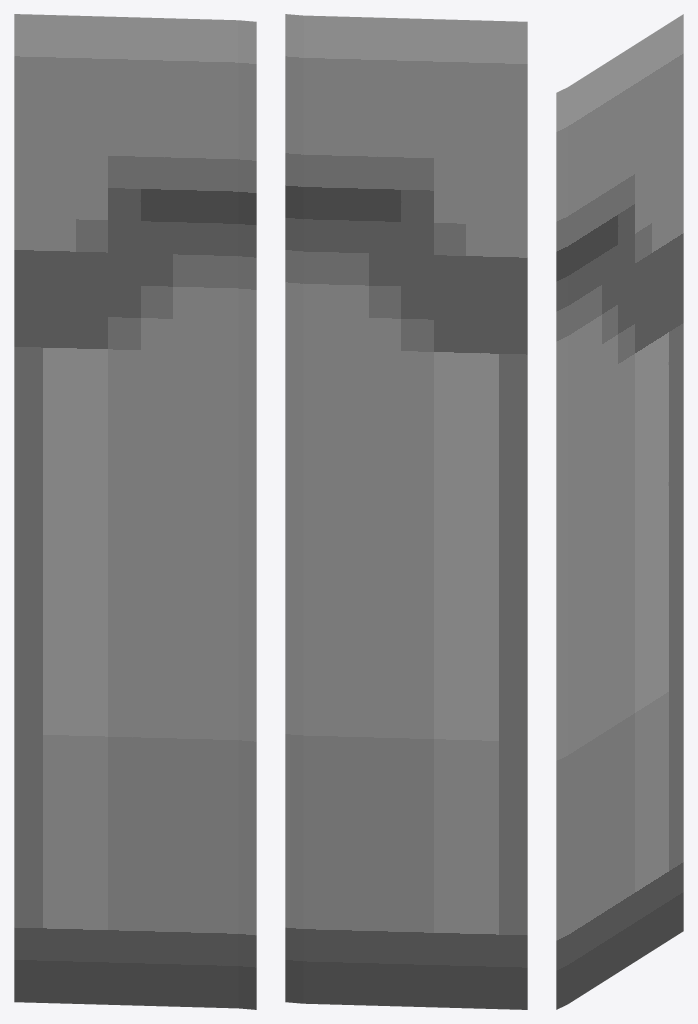
3 renders of one model, left to right at view 1: azimuth 30°, elevation 25°; view 2: azimuth 210°, elevation 25°; view 3: azimuth 270°, elevation 25°, orthographic. The views are drawn at different scales.
Size of the model in its own units: 0.5526 by 3 by 0.3776.
Materials: 1 (1 with a texture image).
